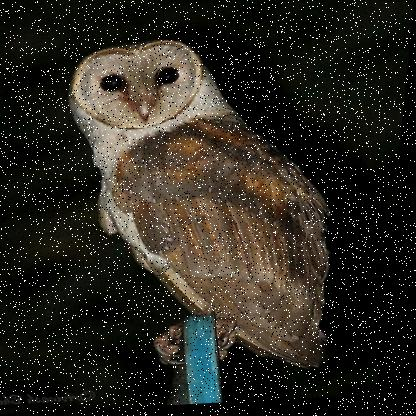Burung: (45, 31, 357, 382)
